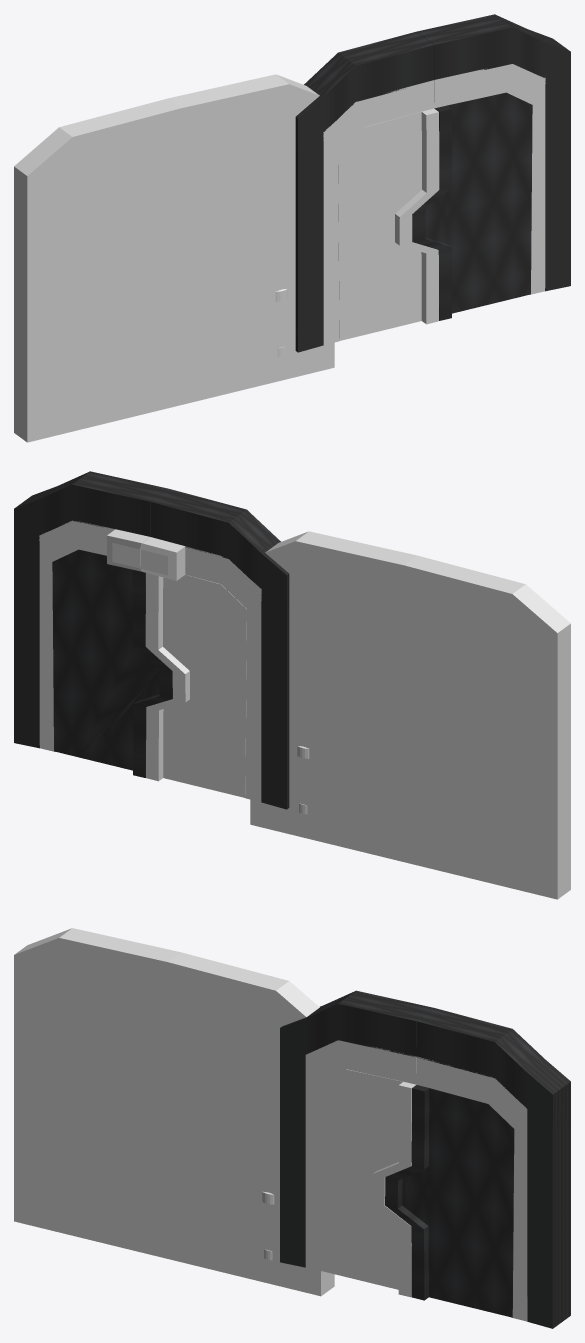
File: door_v01.fbx
The picture shows the model from 3 angles, top to bottom: view 1: azimuth 30°, elevation 25°; view 2: azimuth 150°, elevation 25°; view 3: azimuth 330°, elevation 25°; orthographic projection.
Parts seen in each view (by area): view 1: Cube.001, Cube.003, Cube.005, Cube, Cube.004; view 2: Cube.001, Cube.003, Cube.005, Cube, Cube.004, Cube.002; view 3: Cube.001, Cube.003, Cube.005, Cube, Cube.004.
Boxes of the visible parts, x1,y1,x2,y2 form: Cube.001: (14,74,334,442); Cube.003: (295,14,570,352); Cube.005: (412,92,532,320); Cube: (338,108,439,340); Cube.004: (323,64,545,345); Cube.001: (250,531,570,899); Cube.003: (14,471,289,809); Cube.005: (52,549,172,777); Cube: (145,573,246,797); Cube.004: (39,520,261,802); Cube.002: (107,529,185,580); Cube.001: (14,928,334,1296); Cube.003: (280,990,570,1328); Cube.005: (385,1085,514,1317); Cube: (319,1069,416,1297); Cube.004: (305,1040,527,1321).
Size of the model in its own units: 1199 by 637 by 128.
